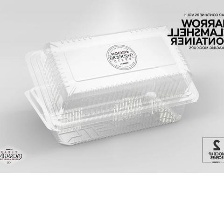plastic_box: (17, 19, 207, 152)
